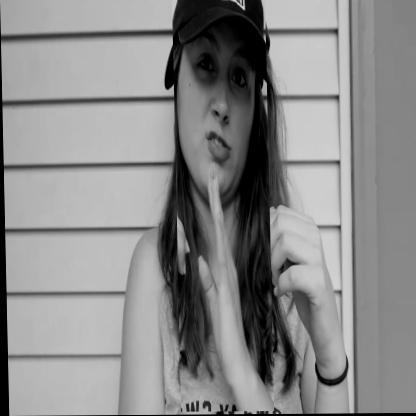Talk: (172, 0, 272, 412)
